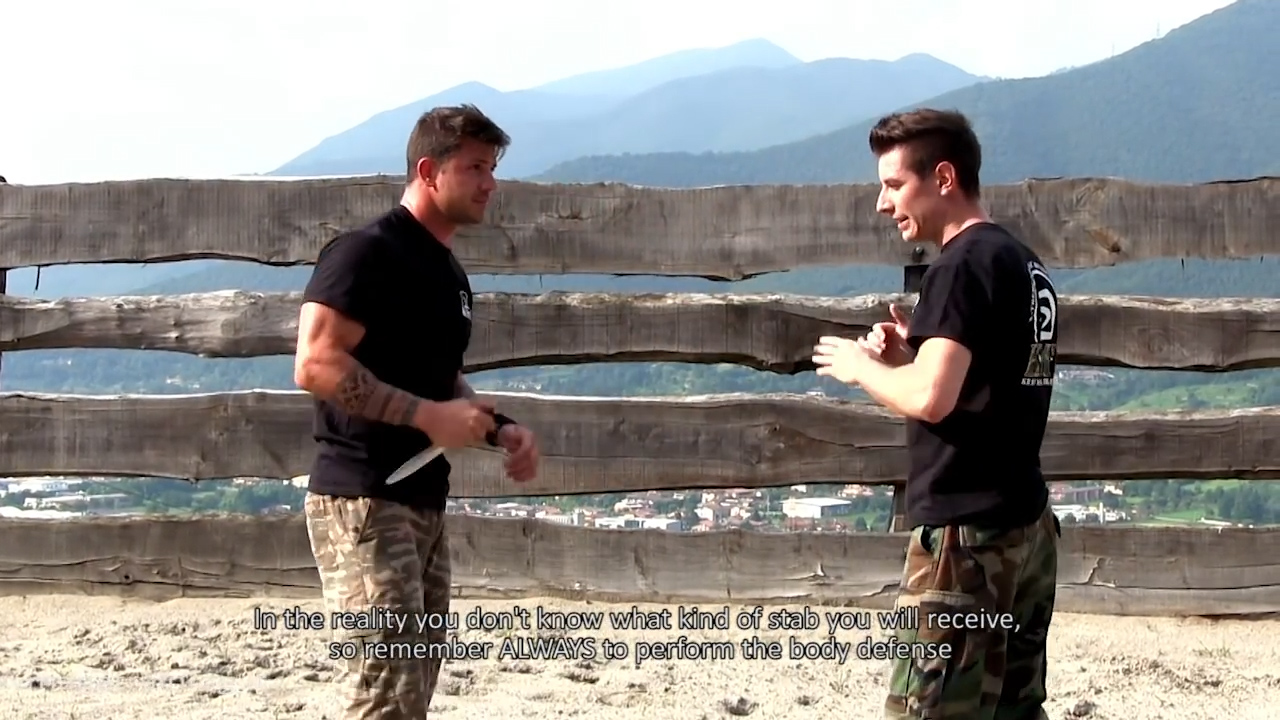knife: (379, 398, 500, 488)
